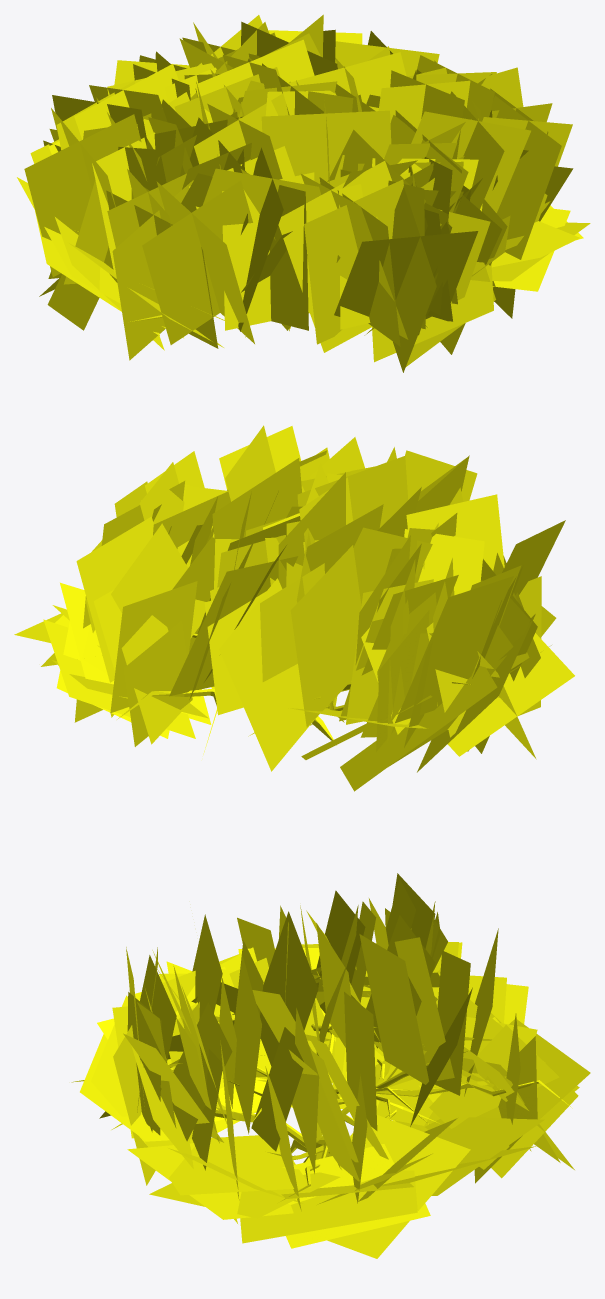
File: bush_juniper.glb
3 views of the same model, one above another, from view 1: azimuth 30°, elevation 25°; view 2: azimuth 150°, elevation 25°; view 3: azimuth 270°, elevation 25° (orthographic). The views are drawn at different scales.
Visible parts, largest first — view 1: Junipper_LOD0; view 2: Junipper_LOD0, SM_Junipper_LOD0; view 3: Junipper_LOD0, SM_Junipper_LOD0.
Boxes of the visible parts, left/top/right/bottom form: Junipper_LOD0: left=17, top=14, right=590, bottom=372; Junipper_LOD0: left=14, top=425, right=574, bottom=791; SM_Junipper_LOD0: left=117, top=633, right=502, bottom=754; Junipper_LOD0: left=71, top=873, right=590, bottom=1258; SM_Junipper_LOD0: left=111, top=971, right=572, bottom=1201.
Bounding box in the file's own units: 1.54 × 0.8559 × 1.6.
